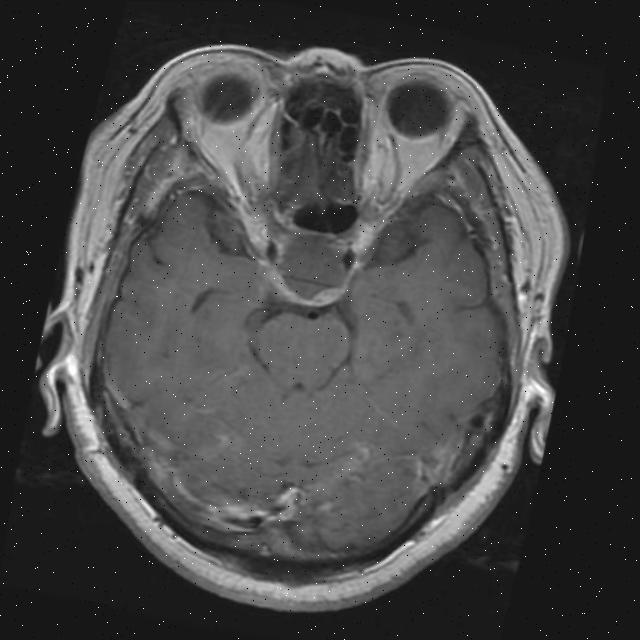Pituitary: (269, 228, 353, 306)
